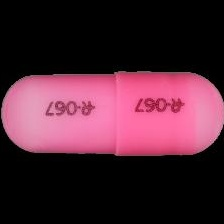67544-117: (0, 0, 224, 224)
